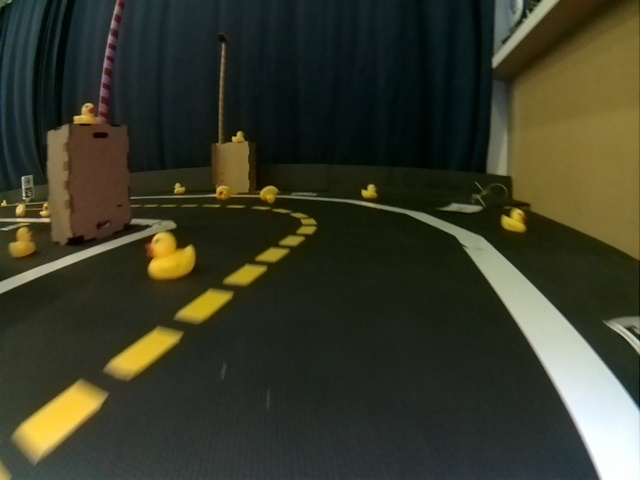Duckie: (145, 232, 195, 280), (10, 229, 37, 257), (502, 208, 527, 232), (74, 104, 95, 125), (259, 186, 278, 204), (361, 184, 378, 198), (216, 186, 231, 199), (231, 130, 245, 141), (173, 183, 186, 194)
